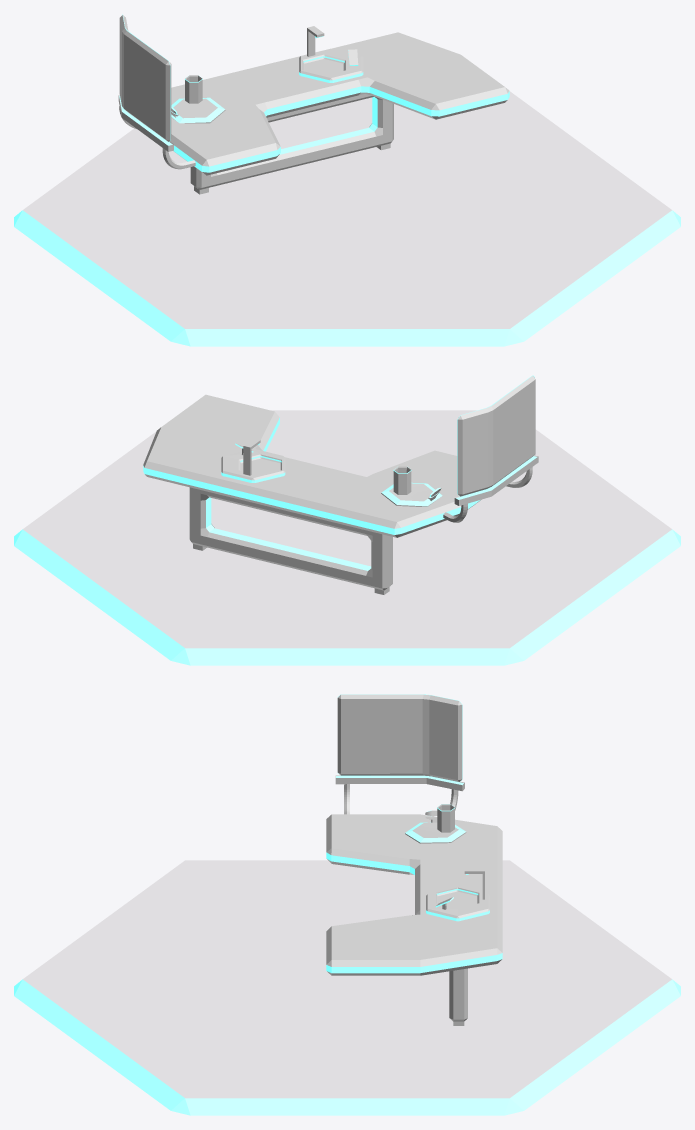
Rendered from TableUV.fbx.
3 renders of one model, top to bottom at view 1: azimuth 30°, elevation 25°; view 2: azimuth 150°, elevation 25°; view 3: azimuth 270°, elevation 25°, orthographic.
Parts seen in each view (by area): view 1: Platform, Table, Glass Tablet, Sink, Weights, Tablet; view 2: Platform, Table, Glass Tablet, Sink, Tablet, Weights, Bottle; view 3: Platform, Table, Glass Tablet, Sink, Tablet, Weights.
Boxes of the visible parts, x1=… form: Platform: x1=14, y1=91, x2=680, y2=346; Table: x1=170, y1=32, x2=509, y2=194; Glass Tablet: x1=119, y1=15, x2=171, y2=141; Sink: x1=299, y1=26, x2=363, y2=82; Weights: x1=171, y1=97, x2=225, y2=123; Tablet: x1=118, y1=95, x2=195, y2=169; Platform: x1=14, y1=410, x2=680, y2=665; Table: x1=143, y1=394, x2=480, y2=594; Glass Tablet: x1=457, y1=376, x2=535, y2=496; Sink: x1=221, y1=438, x2=285, y2=482; Tablet: x1=443, y1=455, x2=538, y2=522; Weights: x1=381, y1=482, x2=442, y2=506; Bottle: x1=393, y1=466, x2=411, y2=494; Platform: x1=14, y1=860, x2=680, y2=1115; Table: x1=326, y1=814, x2=502, y2=1025; Glass Tablet: x1=337, y1=694, x2=462, y2=781; Sink: x1=426, y1=868, x2=489, y2=921; Tablet: x1=335, y1=775, x2=464, y2=814; Weights: x1=405, y1=810, x2=466, y2=843.
Bounding box in the file's own units: 343 × 134 × 388.
